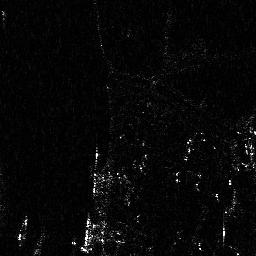ship: (79, 217, 92, 255), (18, 216, 29, 241)
